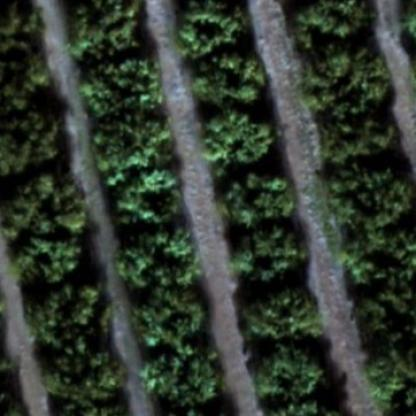Canopy-Citrus: (303, 49, 393, 115), (328, 160, 415, 228), (115, 225, 203, 291), (42, 342, 130, 408), (0, 168, 86, 234), (24, 277, 107, 344), (233, 286, 321, 347), (86, 114, 171, 177), (78, 53, 163, 115), (103, 167, 188, 228), (201, 108, 276, 175), (316, 104, 396, 166), (140, 352, 221, 410), (128, 293, 206, 353), (341, 220, 416, 282), (182, 54, 268, 108), (284, 0, 378, 49), (230, 230, 310, 287), (14, 220, 84, 282), (353, 274, 415, 344), (250, 338, 326, 394), (215, 177, 296, 228), (172, 0, 246, 54), (66, 0, 139, 54), (363, 339, 415, 413), (0, 107, 61, 167), (0, 49, 52, 107), (1, 0, 46, 46), (265, 394, 336, 415)
